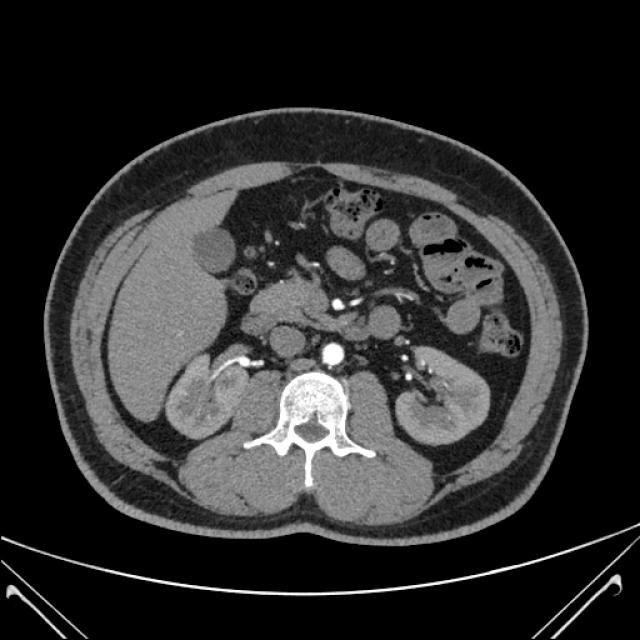Kidney: (63, 104, 587, 548)
